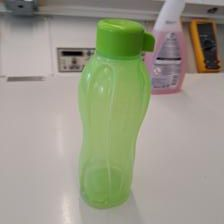bottle: (75, 18, 160, 209)
